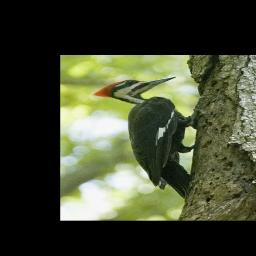Woodpecker: (92, 77, 199, 199)
